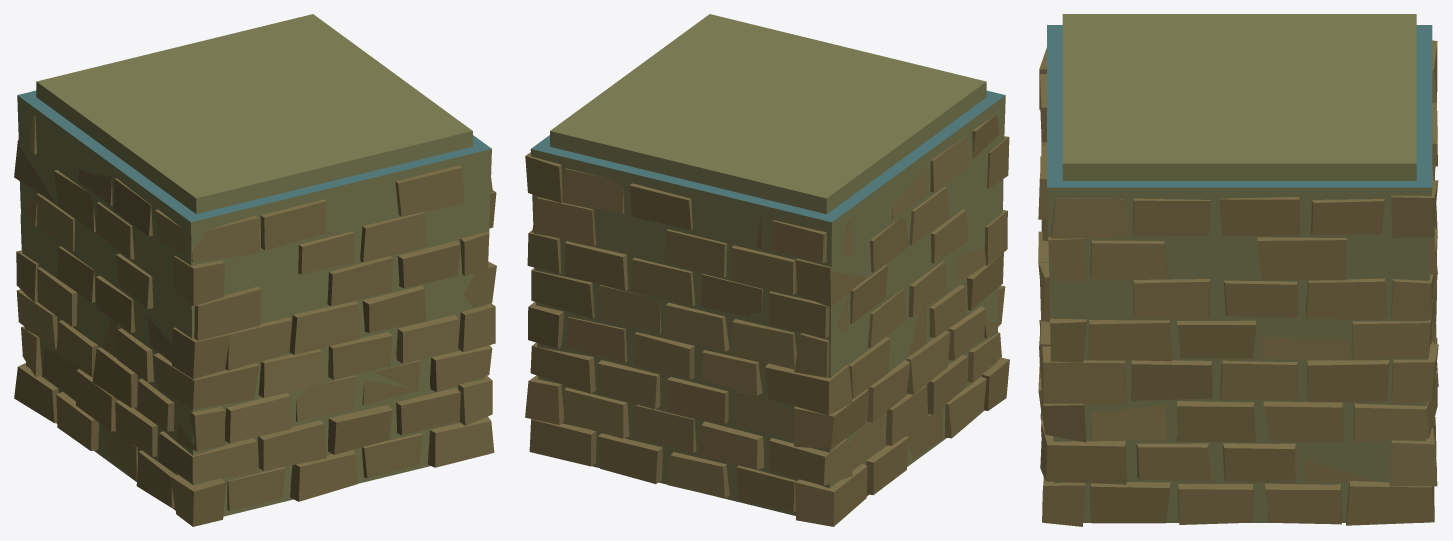
File: wall2_remains_yellow.fbx
3 views of the same model, side by side, from view 1: azimuth 30°, elevation 25°; view 2: azimuth 150°, elevation 25°; view 3: azimuth 270°, elevation 25° (orthographic). The views are drawn at different scales.
Visible parts, largest first — view 1: Plane.002; view 2: Plane.002; view 3: Plane.002.
Boxes of the visible parts, left/top/right/bottom form: Plane.002: left=14, top=14, right=496, bottom=526; Plane.002: left=525, top=14, right=1009, bottom=526; Plane.002: left=1038, top=14, right=1438, bottom=526.
Size of the model in its own units: 1.01 by 1 by 1.02.
Materials: 1 (1 with a texture image).
